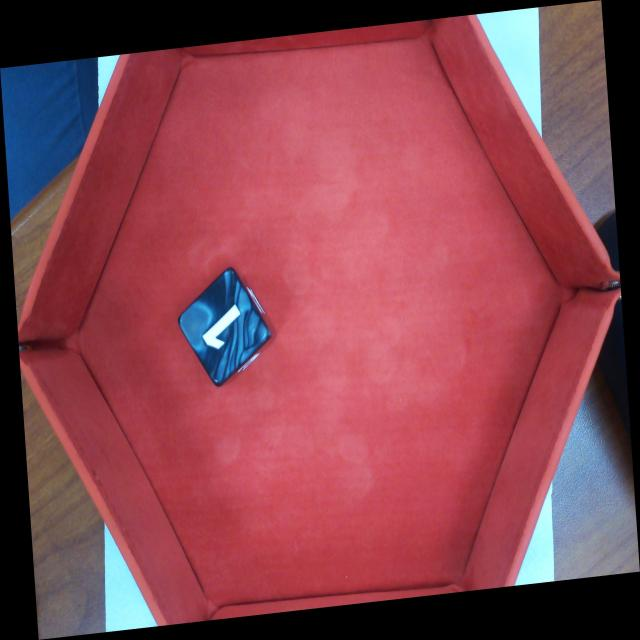dice: (179, 269, 272, 385)
